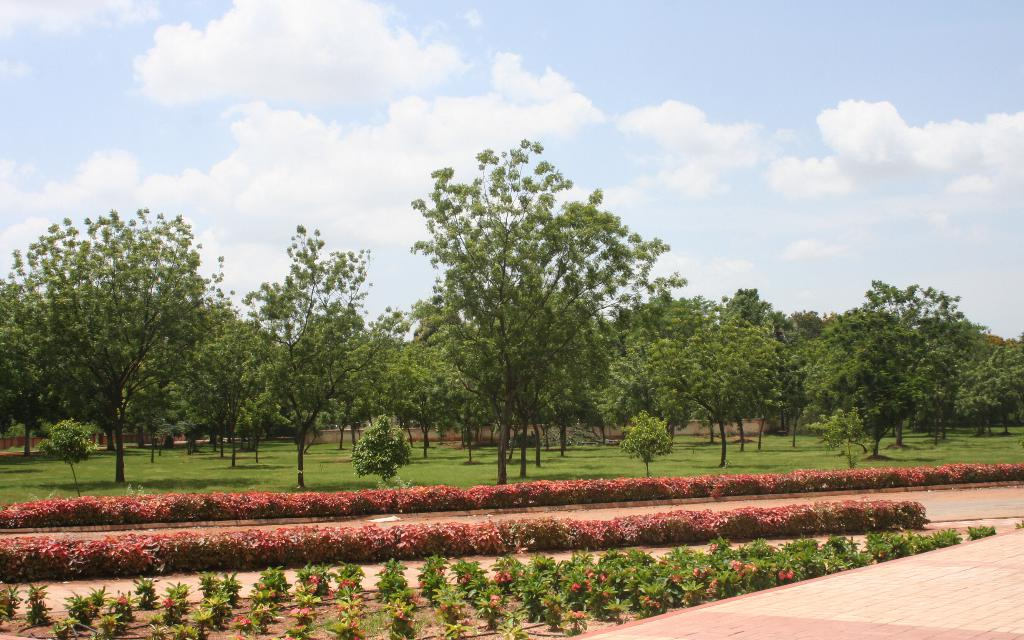Tree: (0, 205, 1023, 493), (403, 121, 664, 481)
